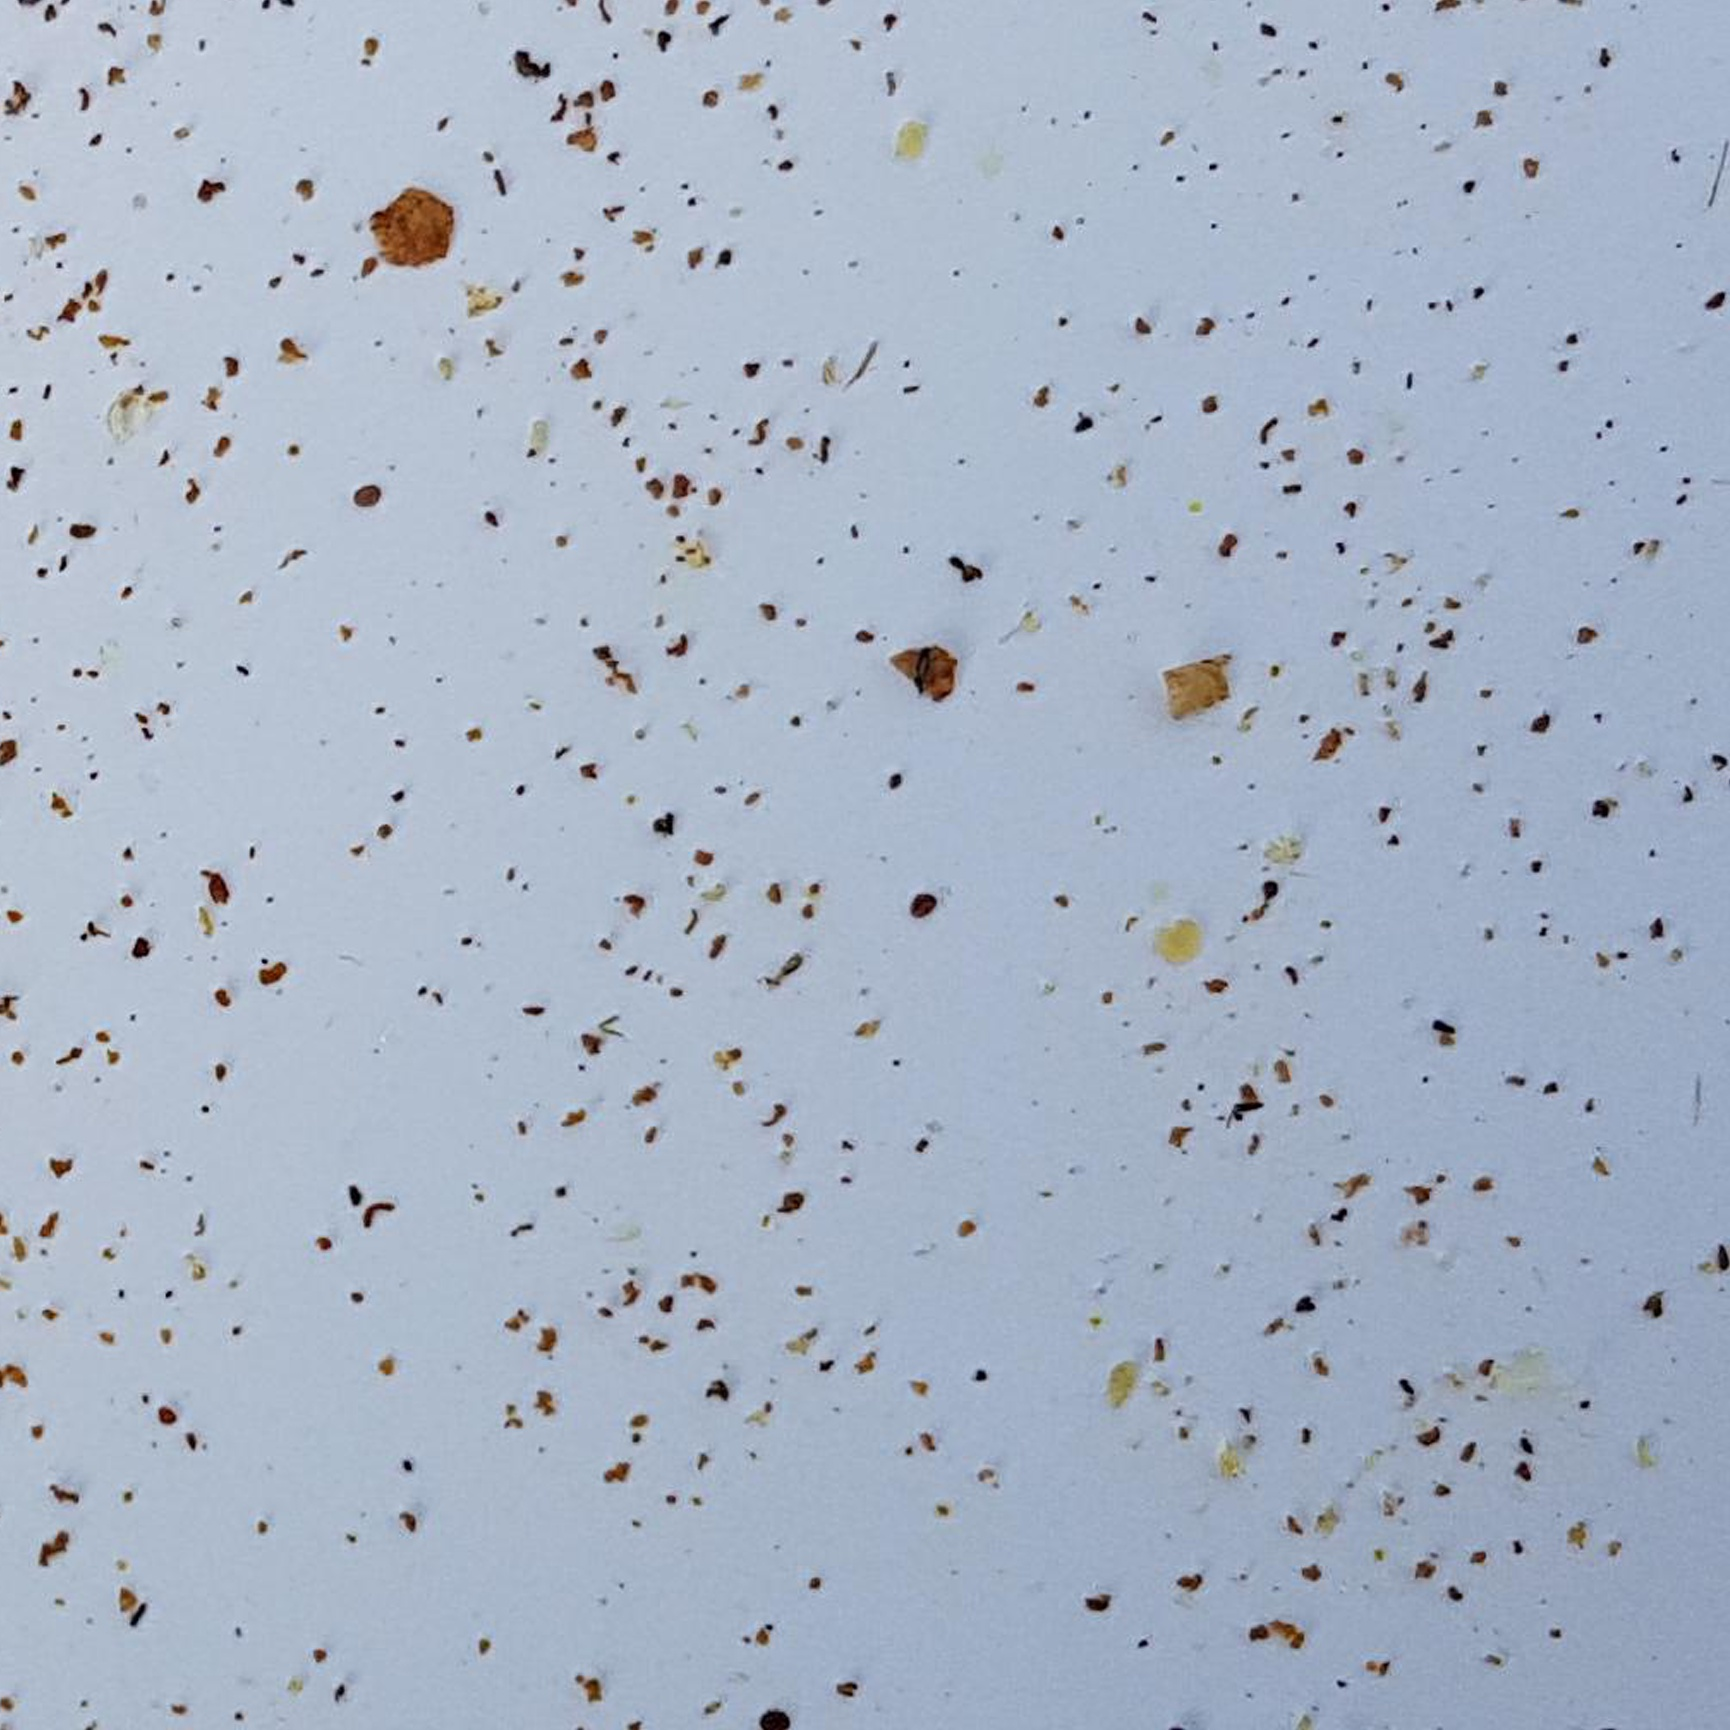Varroa: (352, 478, 387, 515), (908, 886, 943, 919)
